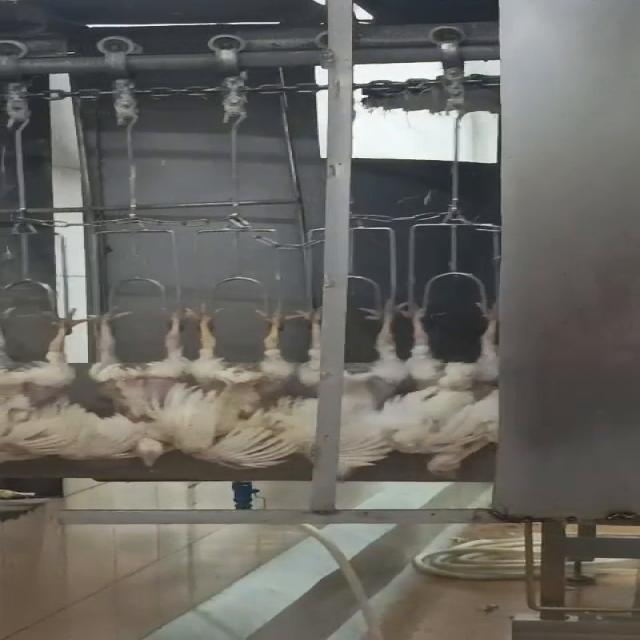chicken: (393, 286, 509, 484), (183, 304, 315, 473), (91, 302, 208, 468), (0, 302, 101, 465), (336, 297, 416, 484)
